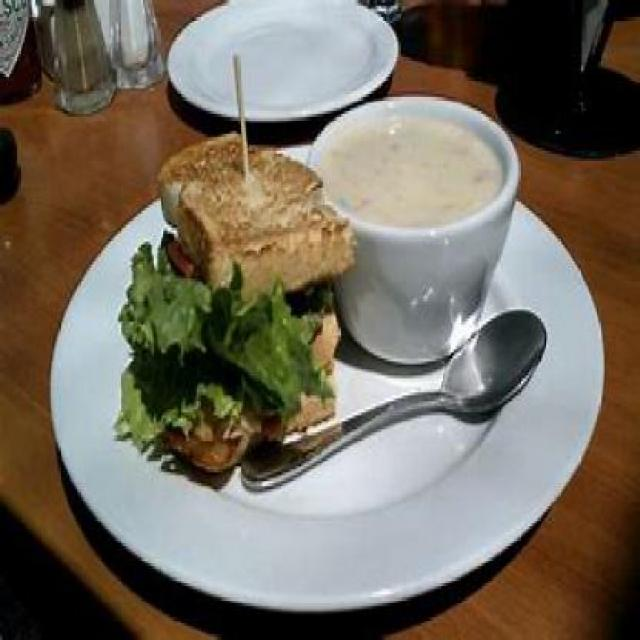clam chowder: (312, 91, 514, 344)
club sandwich: (120, 119, 340, 467)
